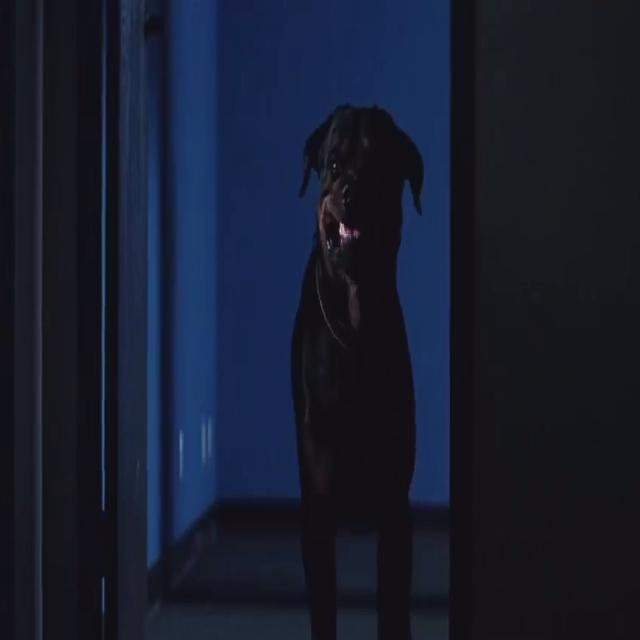Dog: (248, 112, 474, 549)
